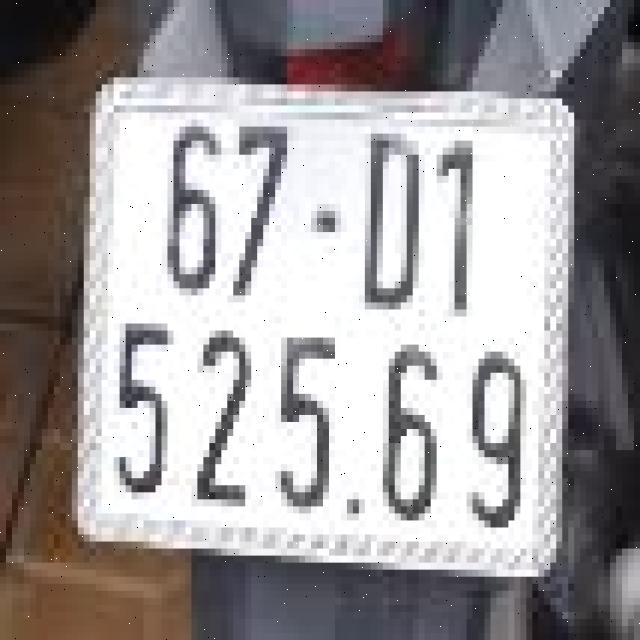1: (436, 126, 484, 324)
2: (188, 320, 260, 517)
5: (266, 310, 344, 528), (108, 296, 180, 520)
6: (371, 338, 448, 534), (158, 109, 224, 299)
7: (230, 98, 302, 310)
9: (460, 344, 532, 562)
D: (353, 112, 431, 324)
